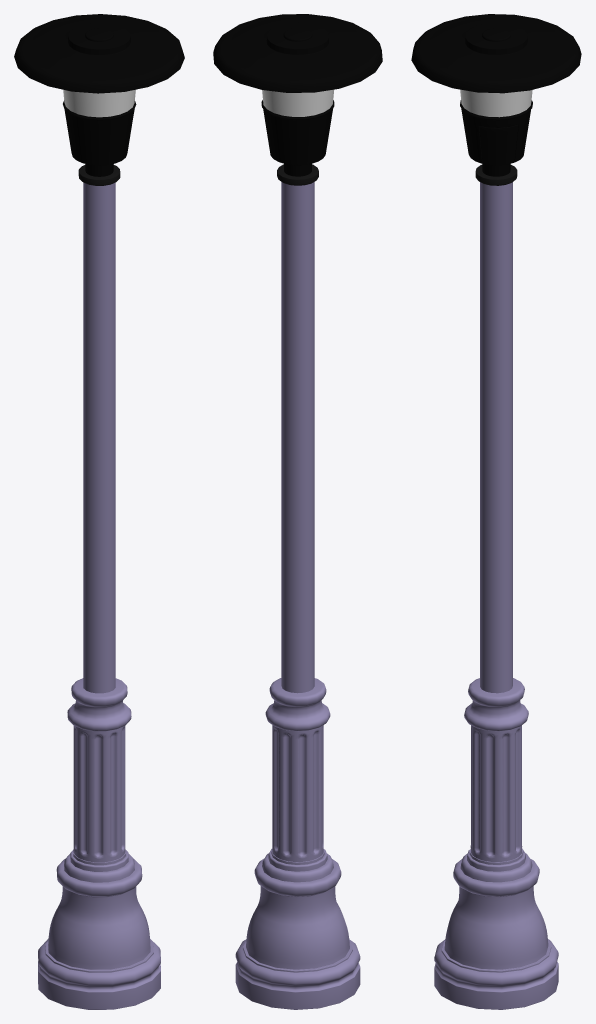
The model's file is light.fbx.
The picture shows the model from 3 angles, left to right: view 1: azimuth 30°, elevation 25°; view 2: azimuth 150°, elevation 25°; view 3: azimuth 270°, elevation 25°; orthographic projection.
Parts seen in each view (by area): view 1: Cylinder038, Series_245_Contempo, AEL_245_Contempo, Cylinder037; view 2: Cylinder038, Series_245_Contempo, AEL_245_Contempo, Cylinder037; view 3: Cylinder038, Series_245_Contempo, AEL_245_Contempo, Cylinder037.
Boxes of the visible parts, bbox=[...] form: Cylinder038: bbox=[38, 182, 160, 1009]; Series_245_Contempo: bbox=[14, 14, 184, 176]; AEL_245_Contempo: bbox=[63, 89, 135, 117]; Cylinder037: bbox=[78, 165, 120, 185]; Cylinder038: bbox=[235, 182, 360, 1009]; Series_245_Contempo: bbox=[213, 14, 382, 176]; AEL_245_Contempo: bbox=[262, 89, 333, 116]; Cylinder037: bbox=[277, 164, 318, 185]; Cylinder038: bbox=[434, 182, 558, 1009]; Series_245_Contempo: bbox=[411, 14, 581, 176]; AEL_245_Contempo: bbox=[460, 89, 532, 117]; Cylinder037: bbox=[475, 165, 517, 185].
Bounding box in the file's own units: 55.92 × 344 × 55.92.
